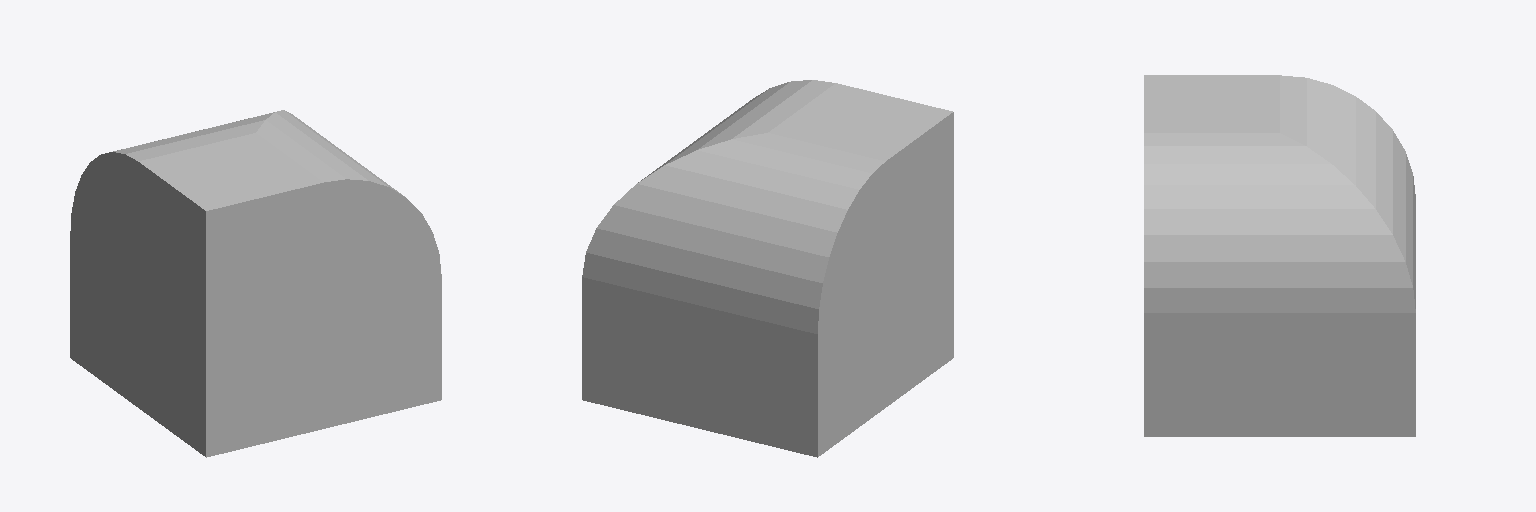
Rendered from technic_two_curved_edge.obj.
The picture shows the model from 3 angles: view 1: azimuth 30°, elevation 25°; view 2: azimuth 150°, elevation 25°; view 3: azimuth 270°, elevation 25°; orthographic projection.
Parts seen in each view (by area): view 1: corner1_Cylinder; view 2: corner1_Cylinder; view 3: corner1_Cylinder.
Part boxes in pixels (left/top/right/bottom): corner1_Cylinder: left=70, top=110, right=441, bottom=457; corner1_Cylinder: left=582, top=80, right=953, bottom=457; corner1_Cylinder: left=1144, top=75, right=1415, bottom=436.
Bounding box in the file's own units: 1 × 1 × 1.